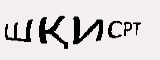И: (72, 12, 104, 46)
Р: (122, 15, 134, 38)
С: (105, 15, 123, 39)
Т: (133, 17, 145, 37)
Ш: (2, 14, 38, 44)
Қ: (37, 12, 71, 49)
